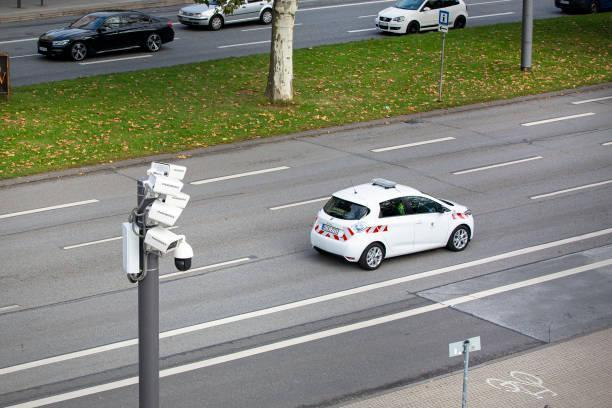camera: (129, 153, 214, 277)
